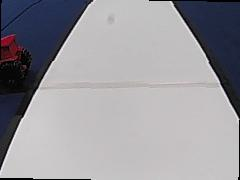Tracktor: (0, 30, 32, 90)
